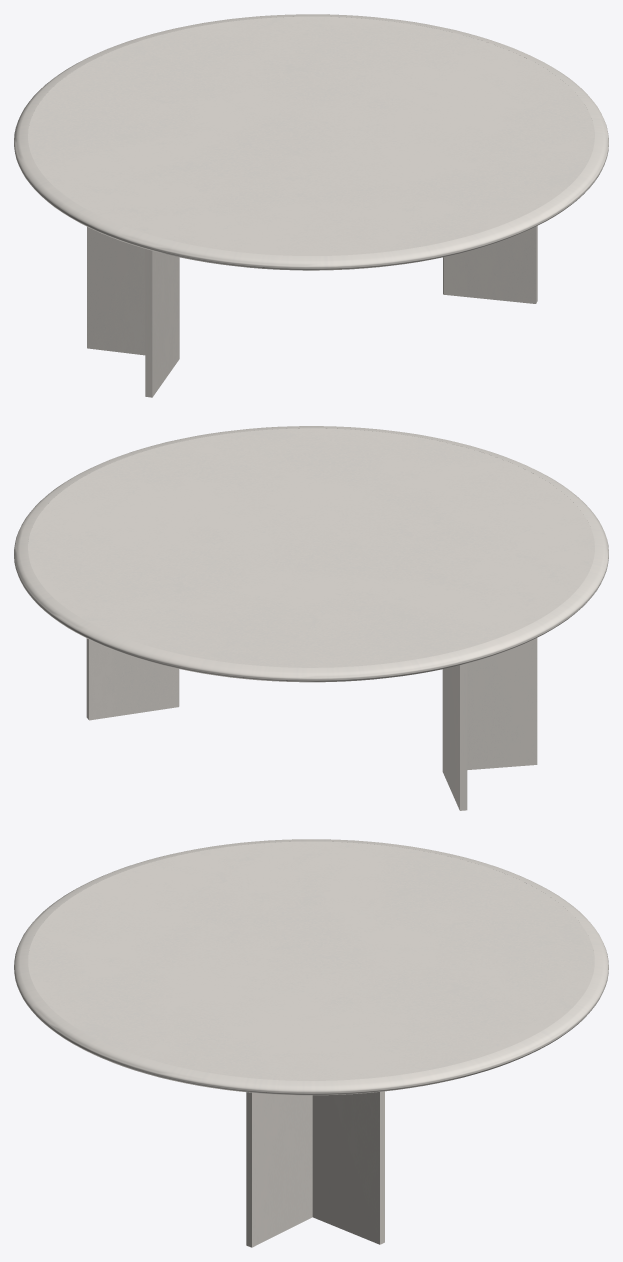
File: pearlwhite_oval_round_valleyv.glb
The picture shows the model from 3 angles, top to bottom: view 1: azimuth 30°, elevation 25°; view 2: azimuth 150°, elevation 25°; view 3: azimuth 270°, elevation 25°; orthographic projection.
Visible parts, largest first — view 1: round_round, valleyv; view 2: round_round, valleyv; view 3: round_round, valleyv.
Part boxes in pixels (<box>): round_round: <box>14,14,608,270</box>; valleyv: <box>87,226,537,397</box>; round_round: <box>14,426,608,682</box>; valleyv: <box>86,638,537,810</box>; round_round: <box>14,839,608,1095</box>; valleyv: <box>246,1091,384,1247</box>.
Bounding box in the file's own units: 7.09 × 2.51 × 7.09.
1 material, 1 textured.
